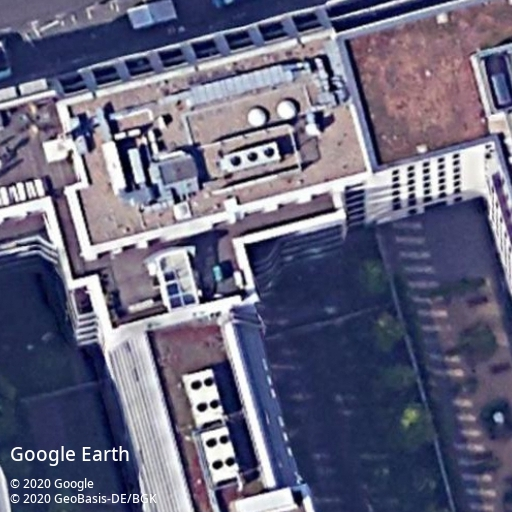Chiller: (182, 368, 225, 427), (200, 427, 239, 482), (220, 142, 281, 172)
